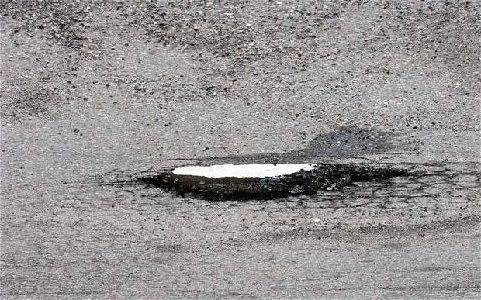pothole: (140, 158, 411, 207)
